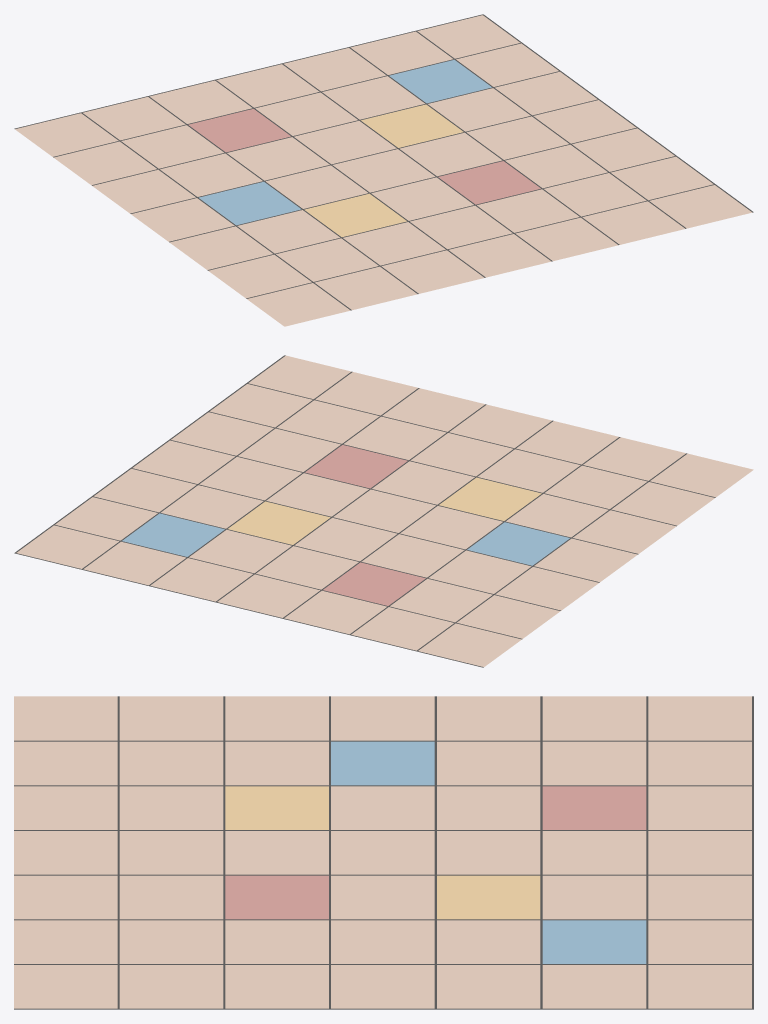
File: floor.fbx
3 views of the same model, one above another, from view 1: azimuth 30°, elevation 25°; view 2: azimuth 150°, elevation 25°; view 3: azimuth 270°, elevation 25° (orthographic). The views are drawn at different scales.
Visible parts, largest first — view 1: floor; view 2: floor; view 3: floor.
Part boxes in pixels (x1=…): floor: x1=14, y1=14, x2=753, y2=326; floor: x1=14, y1=355, x2=753, y2=667; floor: x1=14, y1=696, x2=753, y2=1009.
Size of the model in its own units: 20138 by 0 by 20106.
